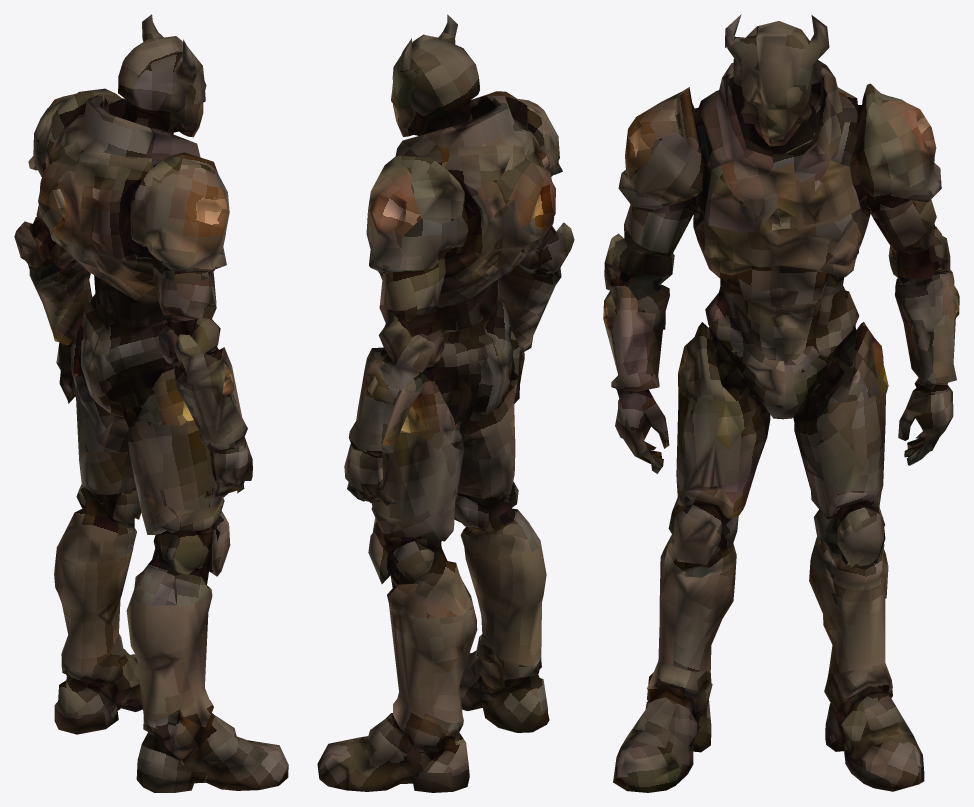
File: obstacle01_lod.glb
3 renders of one model, left to right at view 1: azimuth 30°, elevation 25°; view 2: azimuth 150°, elevation 25°; view 3: azimuth 270°, elevation 25°, orthographic. The views are drawn at different scales.
Visible parts, largest first — view 1: tripo_node_cbe13153-44fe-4300-9735-8ccc49c219d3; view 2: tripo_node_cbe13153-44fe-4300-9735-8ccc49c219d3; view 3: tripo_node_cbe13153-44fe-4300-9735-8ccc49c219d3.
Part boxes in pixels (left/top/right/bottom): tripo_node_cbe13153-44fe-4300-9735-8ccc49c219d3: left=14, top=14, right=288, bottom=792; tripo_node_cbe13153-44fe-4300-9735-8ccc49c219d3: left=317, top=14, right=574, bottom=792; tripo_node_cbe13153-44fe-4300-9735-8ccc49c219d3: left=603, top=14, right=959, bottom=792.
Bounding box in the file's own units: 0.2453 × 0.9794 × 0.4204.
1 material, 1 textured.
